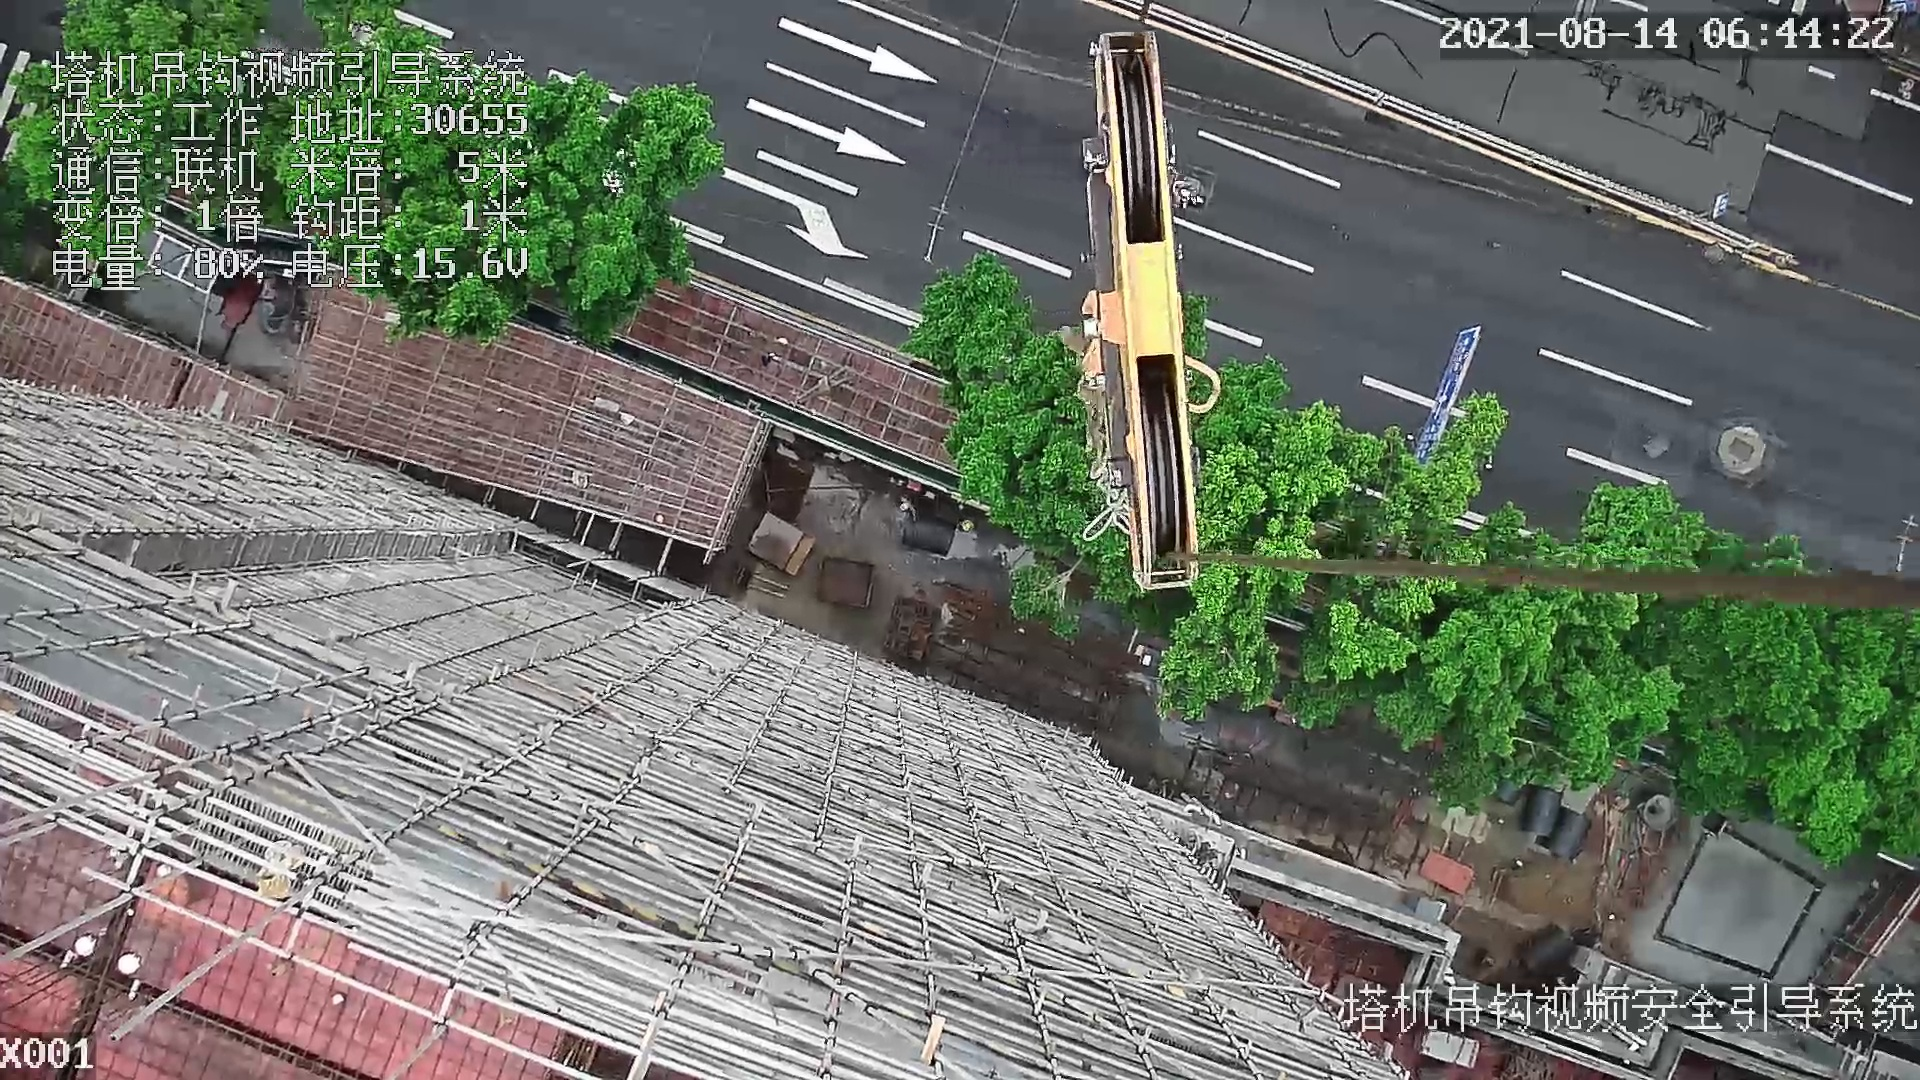hook: (1065, 26, 1223, 597)
person: (897, 494, 920, 525)
